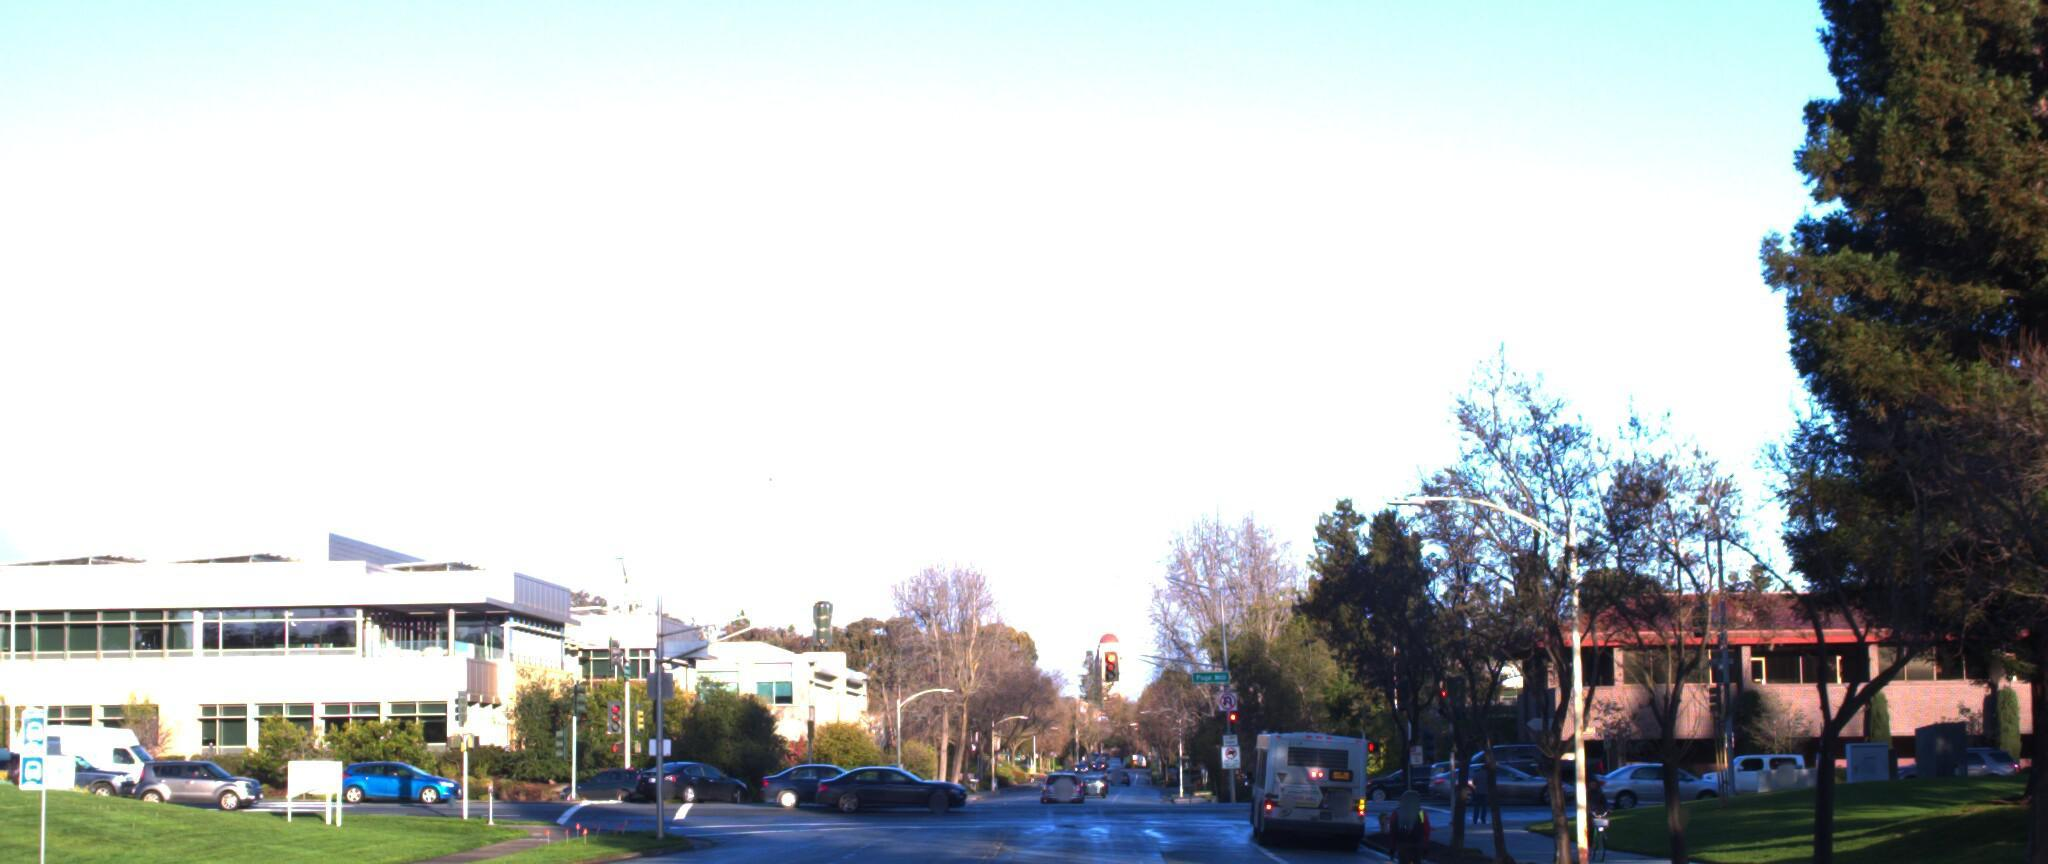bicycle: (1358, 767, 1432, 864)
bus: (1243, 707, 1366, 844)
